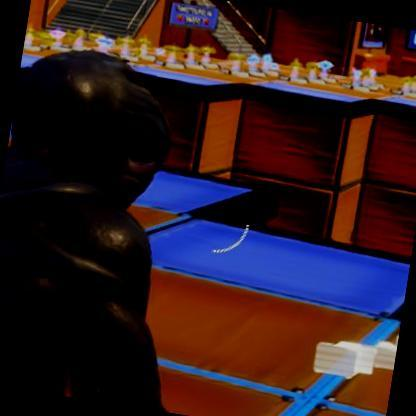person: (0, 41, 184, 405)
